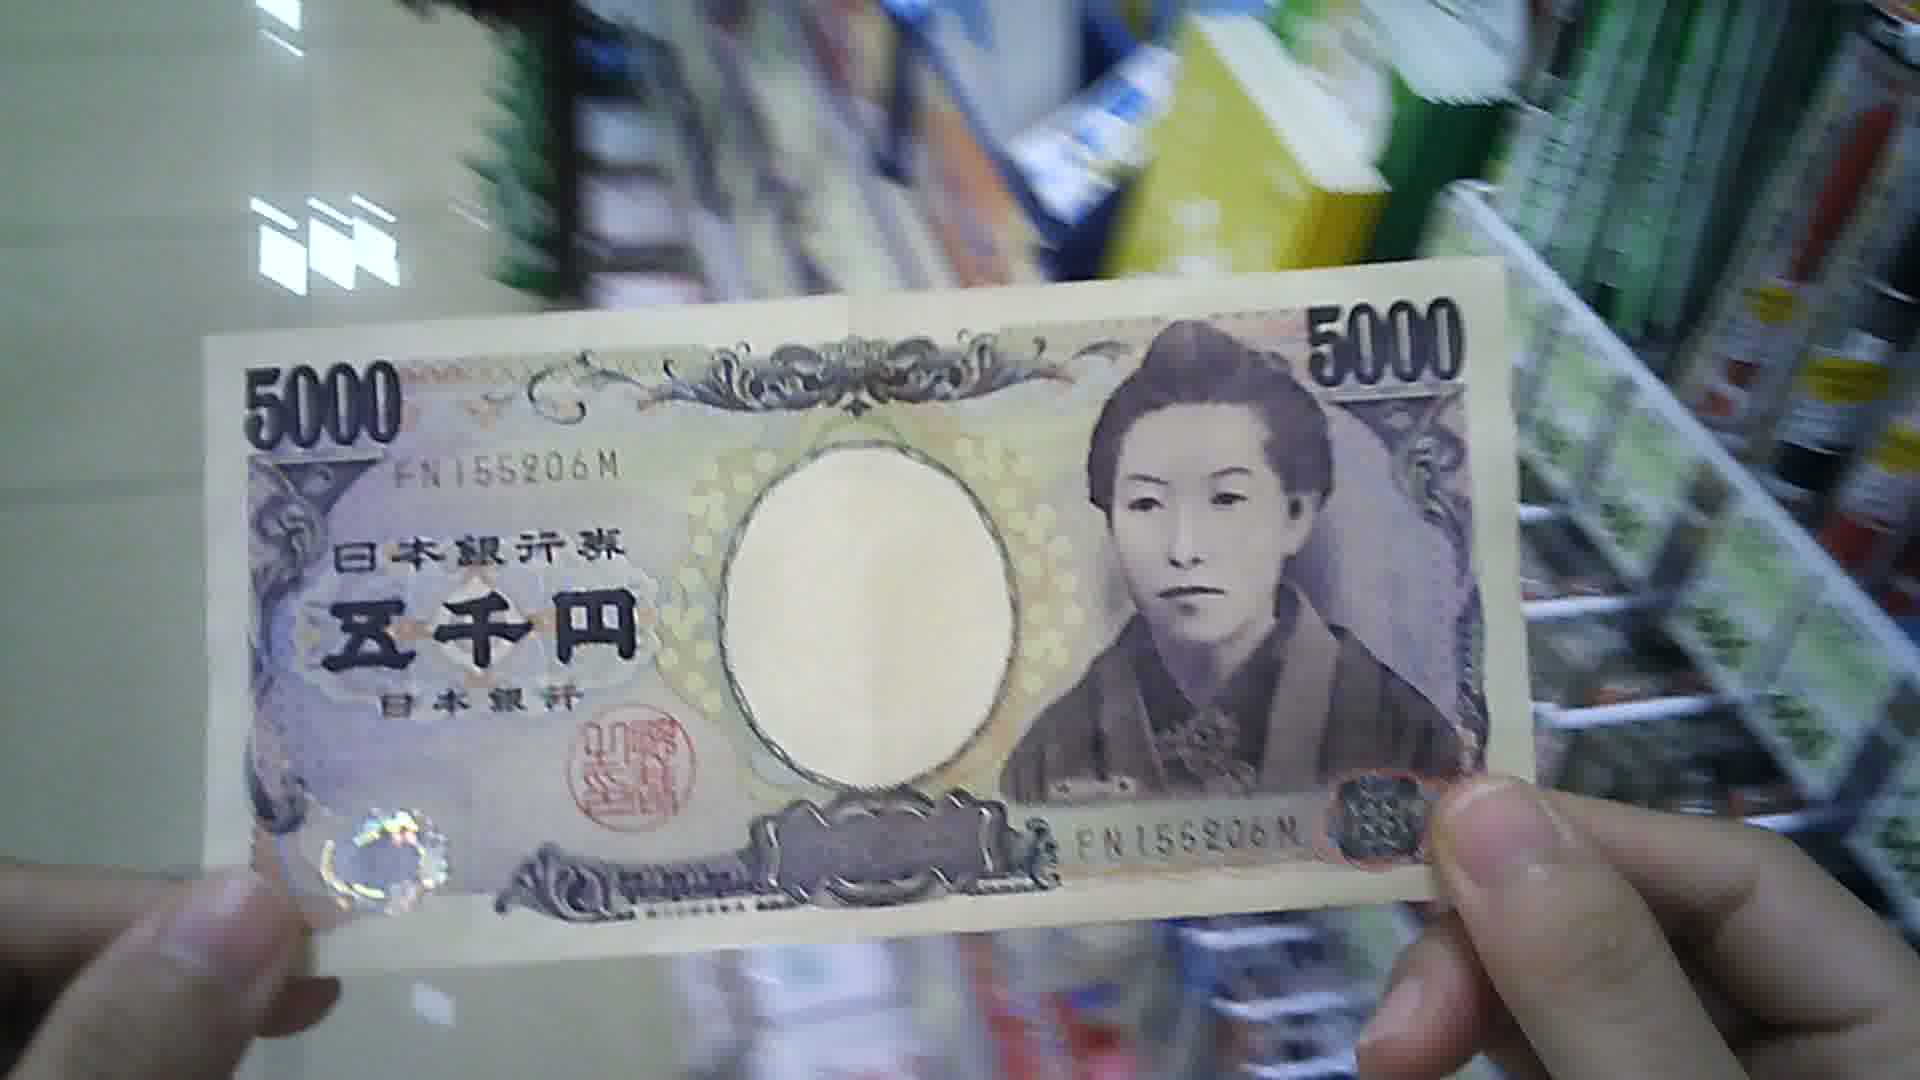5,000 Yen: (202, 269, 1557, 964)
